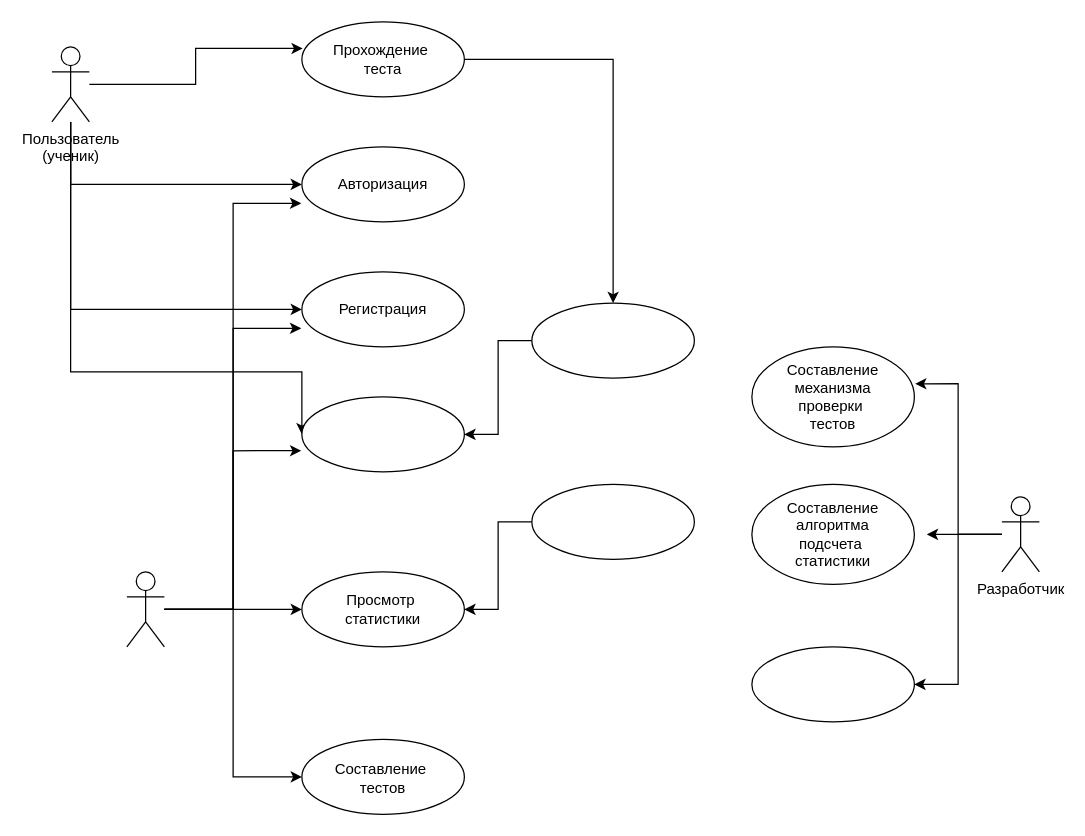
Some shapes in this 1085 by 836 pixel diagram are drawn without their labels. The shapes that lost their labels are listed below. From the top down, each one's centre as x and y in pixels, then its label:
At point 612,340: "Проверка теста".
At point 382,434: "Просмотр результатов".
At point 612,521: "Составление статистики".
At point 145,609: "Пользователь (преподаватель)".
At point 832,684: "Проверка аутентификации".
